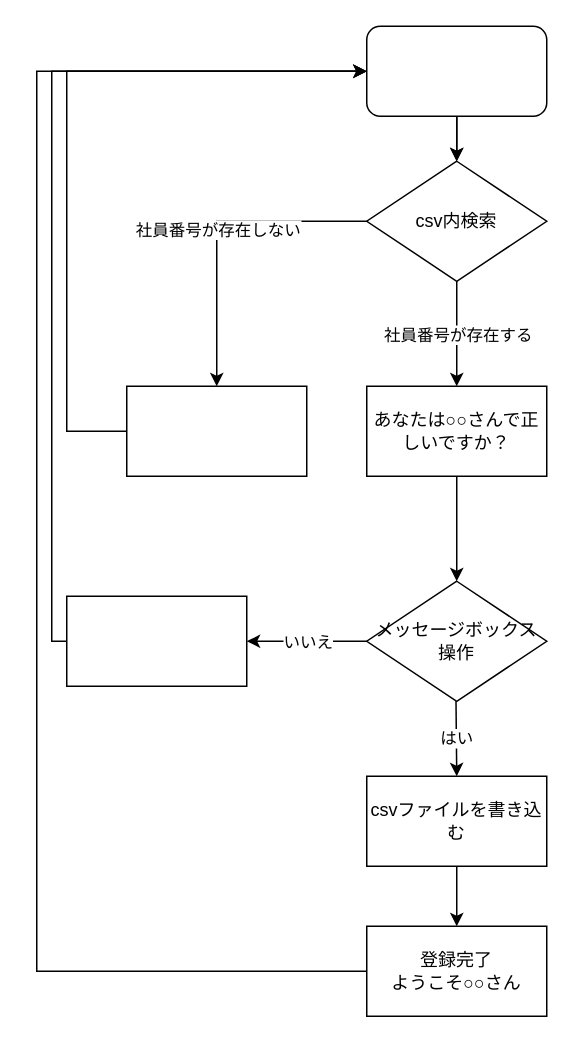
The diagram is 573 pixels wide and 1043 high, and some of its shapes have lost their labels. The shapes that lost their labels are listed below. From the top down, each one's centre as x and y in pixels, then its label:
At (456,70): "社員番号入力".
At (216,430): "エラー、無効な社員番号です".
